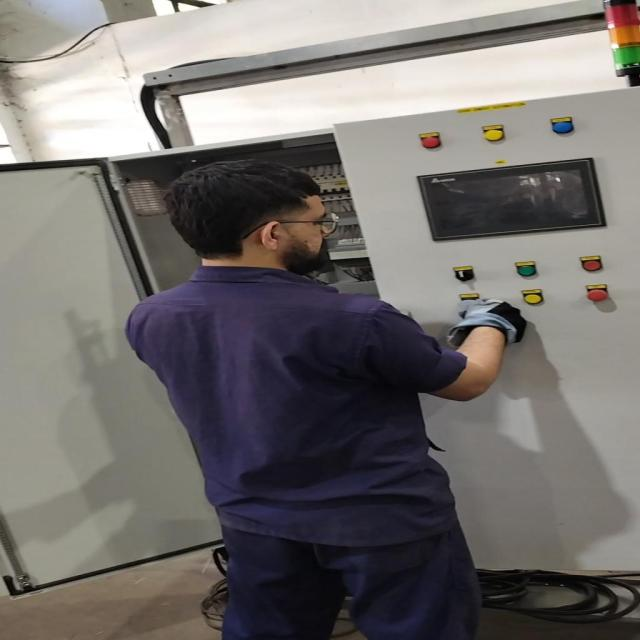Gloves-Detection: (433, 292, 538, 354)
